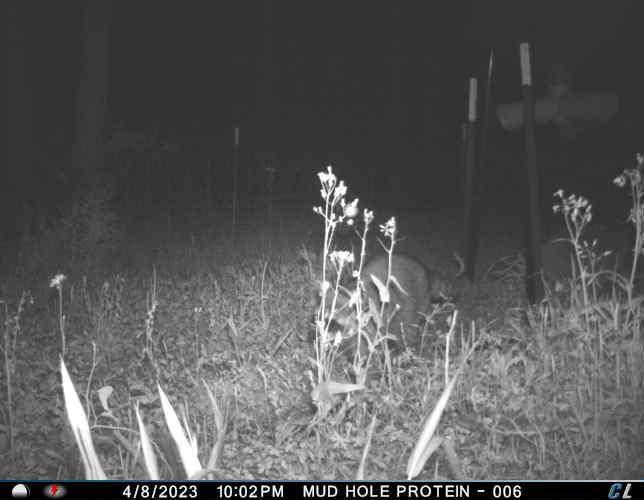Raccoon: (339, 251, 444, 354)
